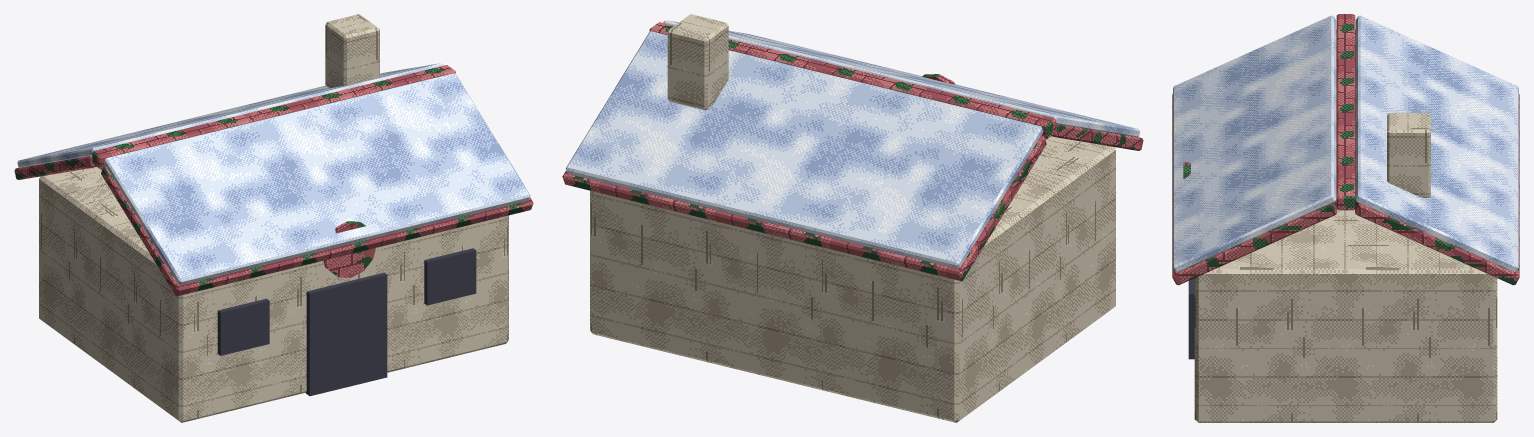
Rendered from plateado_hut.glb.
The picture shows the model from 3 angles, left to right: view 1: azimuth 30°, elevation 25°; view 2: azimuth 150°, elevation 25°; view 3: azimuth 270°, elevation 25°; orthographic projection. The views are drawn at different scales.
Visible parts, largest first — view 1: Hut; view 2: Hut; view 3: Hut.
Part boxes in pixels (left/top/right/bottom): Hut: left=14, top=14, right=533, bottom=422; Hut: left=562, top=14, right=1143, bottom=422; Hut: left=1172, top=14, right=1519, bottom=422.
Bounding box in the file's own units: 6.9 × 4.8 × 5.52.
4 materials, 3 textured.
